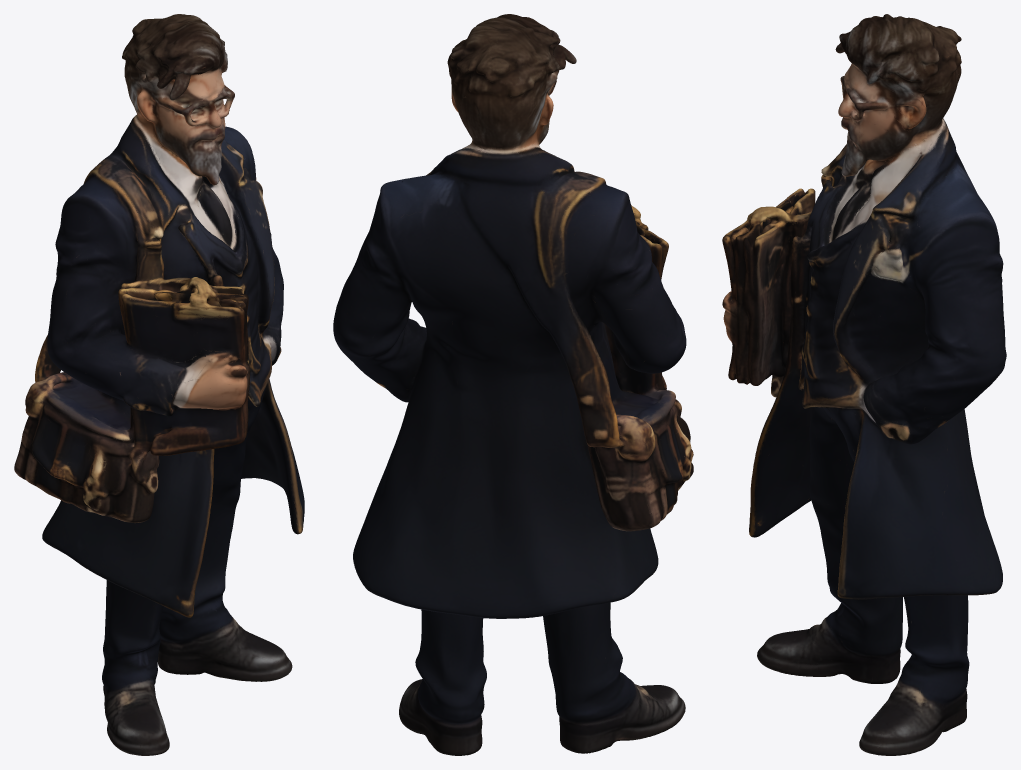
Rendered from prop-firm-coach.glb.
The picture shows the model from 3 angles, left to right: view 1: azimuth 30°, elevation 25°; view 2: azimuth 150°, elevation 25°; view 3: azimuth 270°, elevation 25°; orthographic projection. The views are drawn at different scales.
Visible parts, largest first — view 1: geometry_0; view 2: geometry_0; view 3: geometry_0.
Boxes of the visible parts, box(x1,y1,x2,y2) form: geometry_0: box(14, 14, 304, 755); geometry_0: box(333, 14, 693, 755); geometry_0: box(722, 14, 1006, 755).
Bounding box in the file's own units: 0.4322 × 1 × 0.3742.
Materials: 1 (1 with a texture image).
